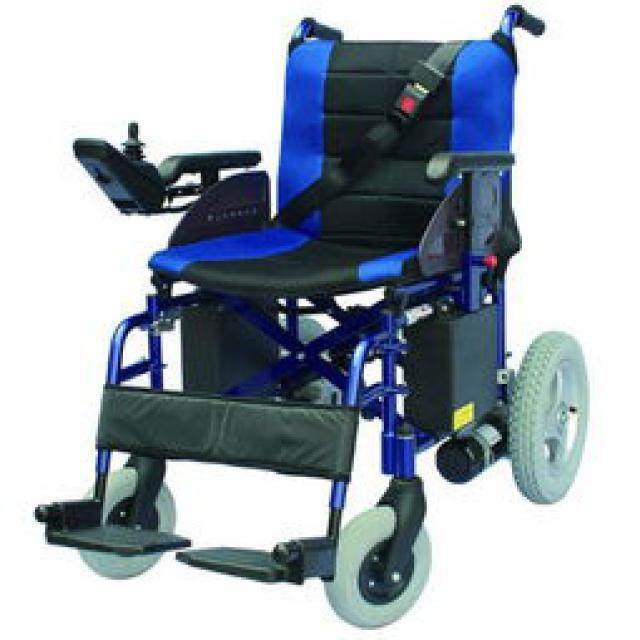wheelchair: (30, 2, 592, 638)
